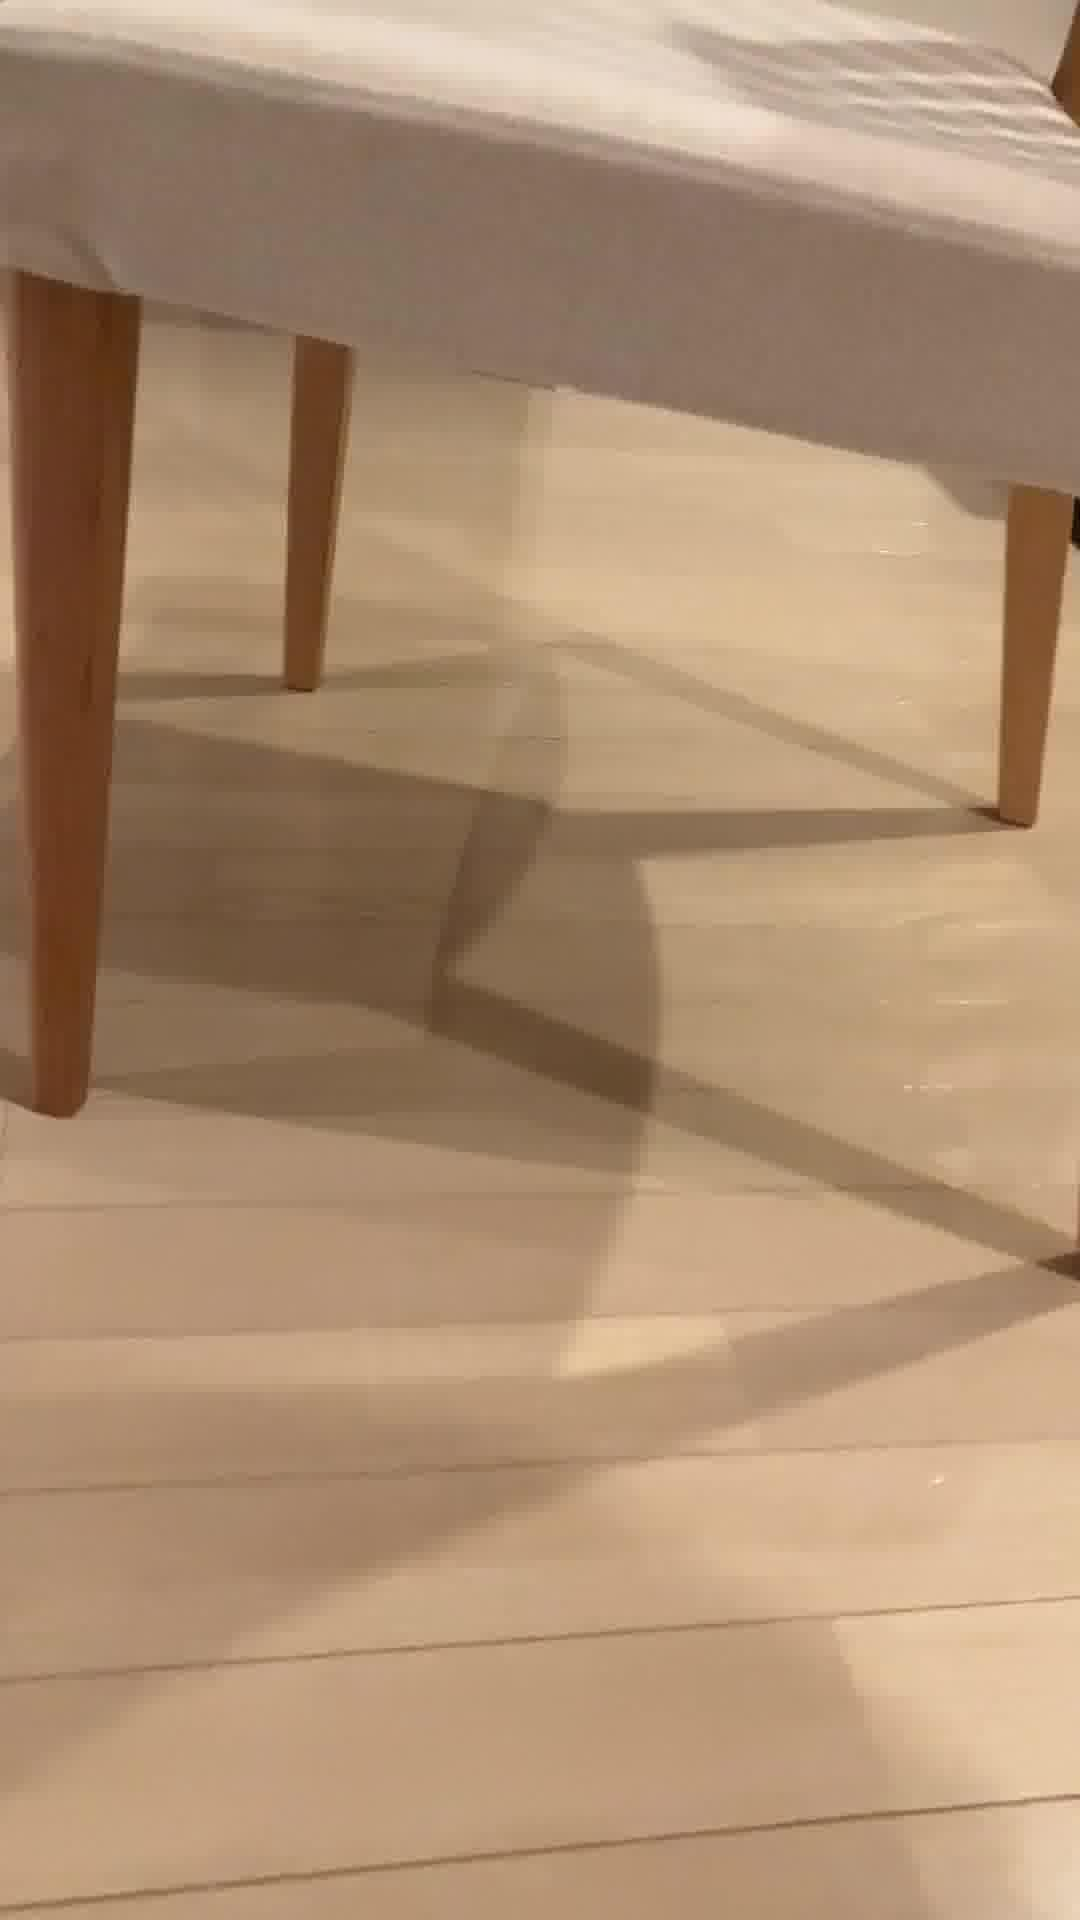takumikan-chair: (0, 0, 1080, 1126)
